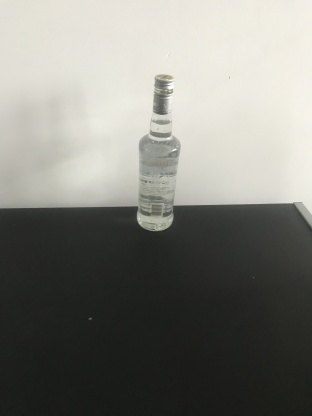nakretka: (151, 72, 174, 115)
